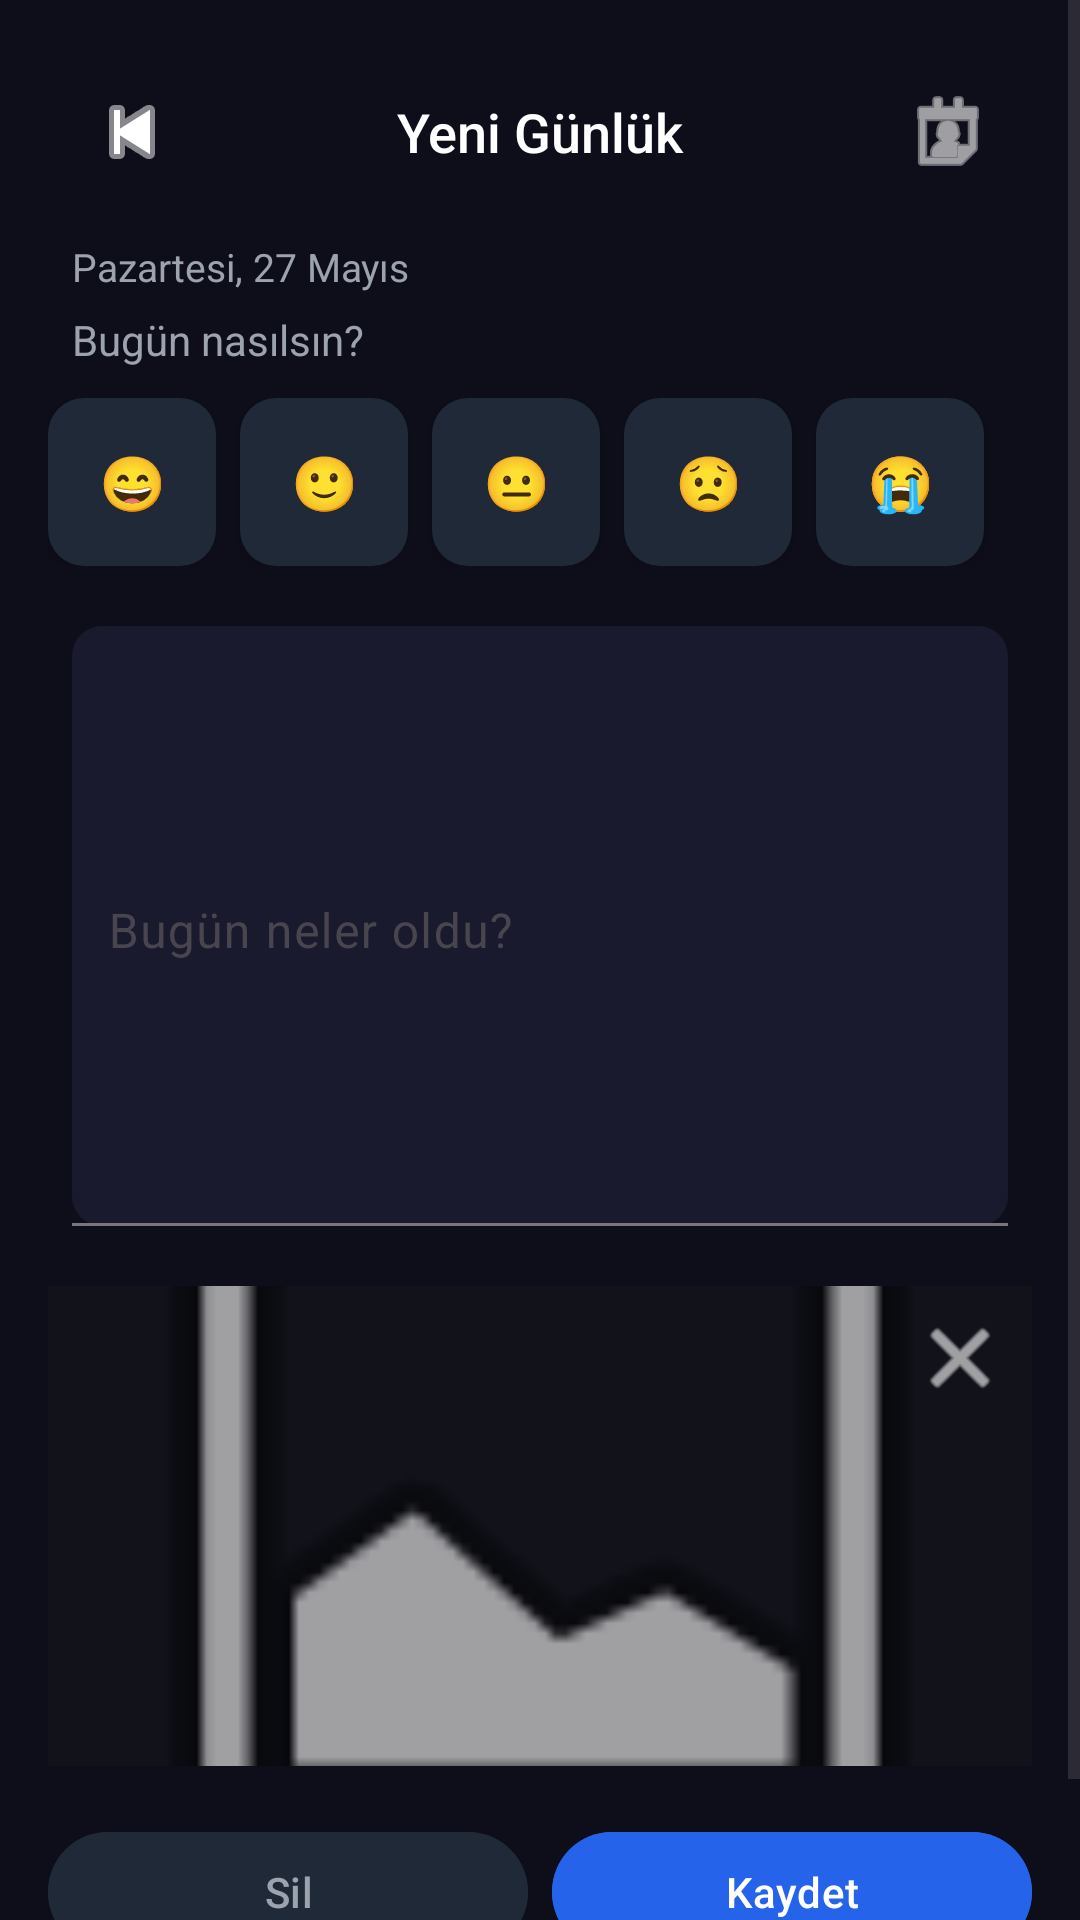

Where to tap for icons on this 1080w x 1920h app screen, as [x,y]:
Geri: [132,132]
Takvim: [948,131]
